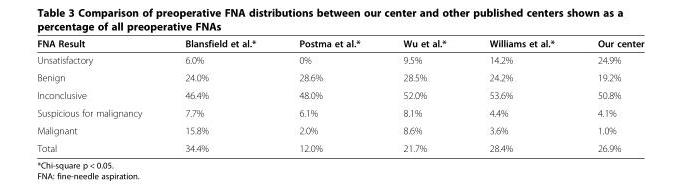table: (36, 37, 643, 153)
table column: (36, 37, 162, 153), (162, 37, 276, 153), (467, 37, 575, 153), (276, 37, 381, 153), (381, 37, 467, 153), (575, 37, 643, 153)
table column header: (36, 37, 643, 51)
table row: (36, 68, 643, 86), (36, 103, 643, 121), (36, 121, 643, 139), (36, 51, 643, 68), (36, 86, 643, 103), (36, 37, 643, 51), (36, 139, 643, 153)
